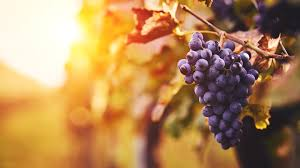Black grapes: (181, 28, 261, 151)
